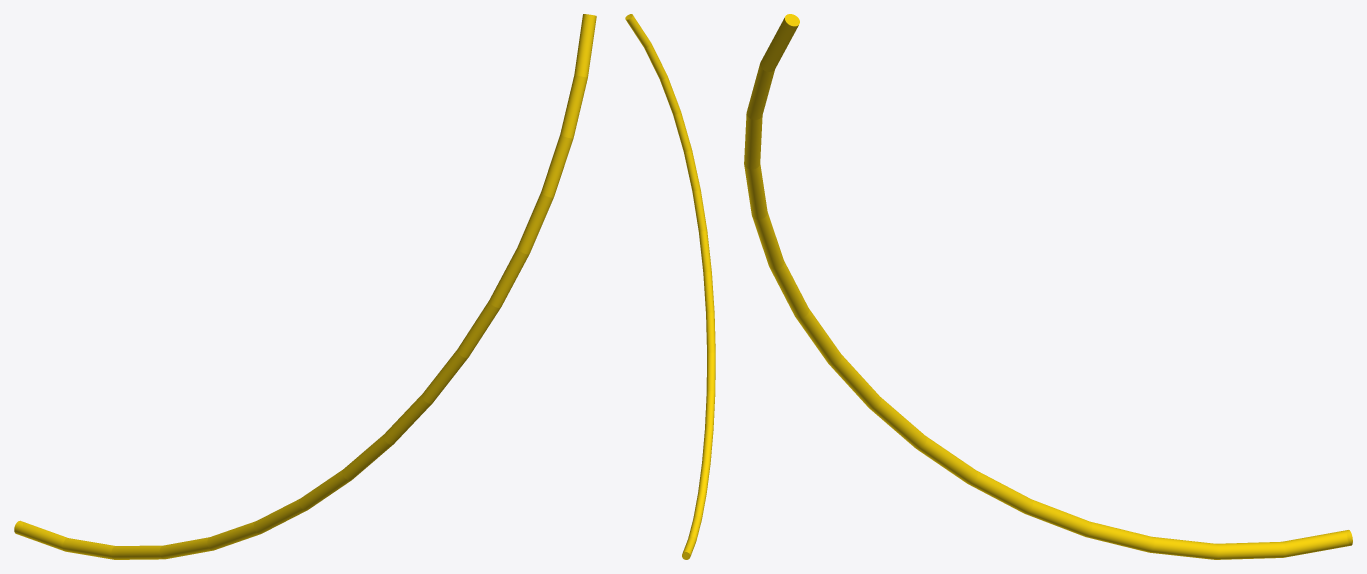
The model's file is Event_421364160_track_7.fbx.
The picture shows the model from 3 angles, left to right: view 1: azimuth 30°, elevation 25°; view 2: azimuth 150°, elevation 25°; view 3: azimuth 270°, elevation 25°; orthographic projection. The views are drawn at different scales.
Visible parts, largest first — view 1: Model; view 2: Model; view 3: Model.
Part boxes in pixels (x1,y1,x2,y2): Model: (14,14,596,559); Model: (625,14,715,559); Model: (744,14,1352,559).
Bounding box in the file's own units: 1.14 × 1.96 × 1.5.
